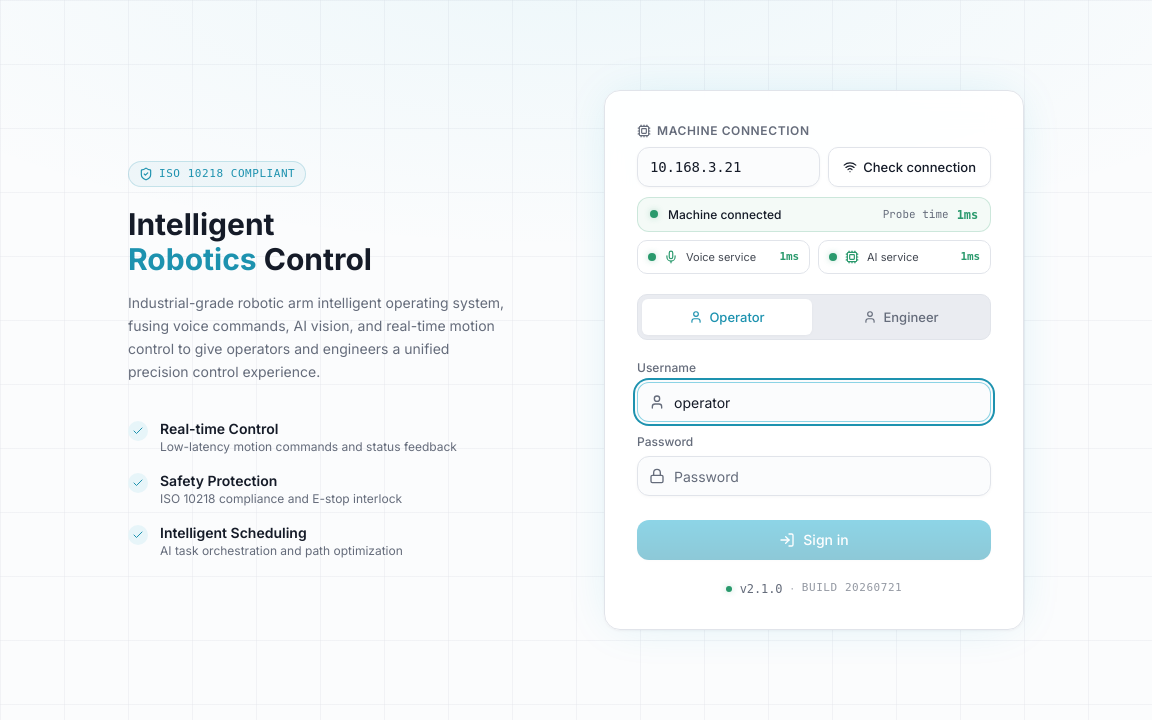
App layout › engineer login reaches the Settings surface from the sidebar
This screenshot has width=1152, height=720.
Replace the text in the field with placeholder "Username" with "engineer" at (814, 402), box [637, 382, 991, 422]
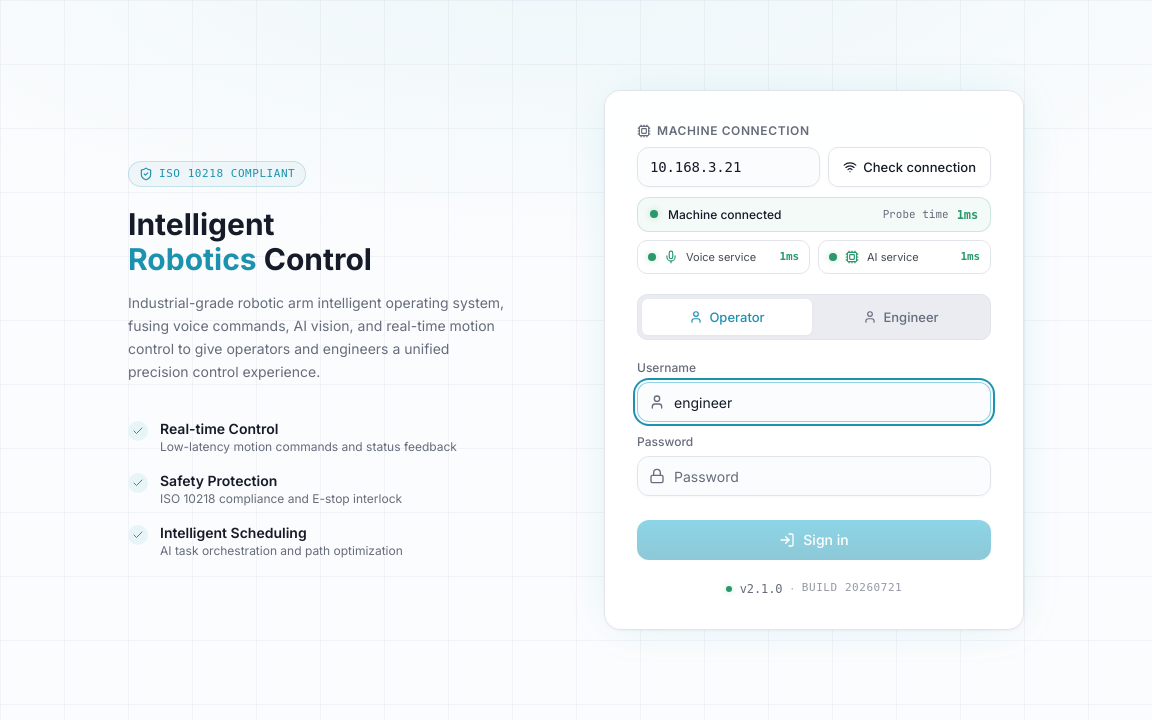
Type "pass" into the password field with placeholder "Password" at (814, 476), box [637, 456, 991, 496]
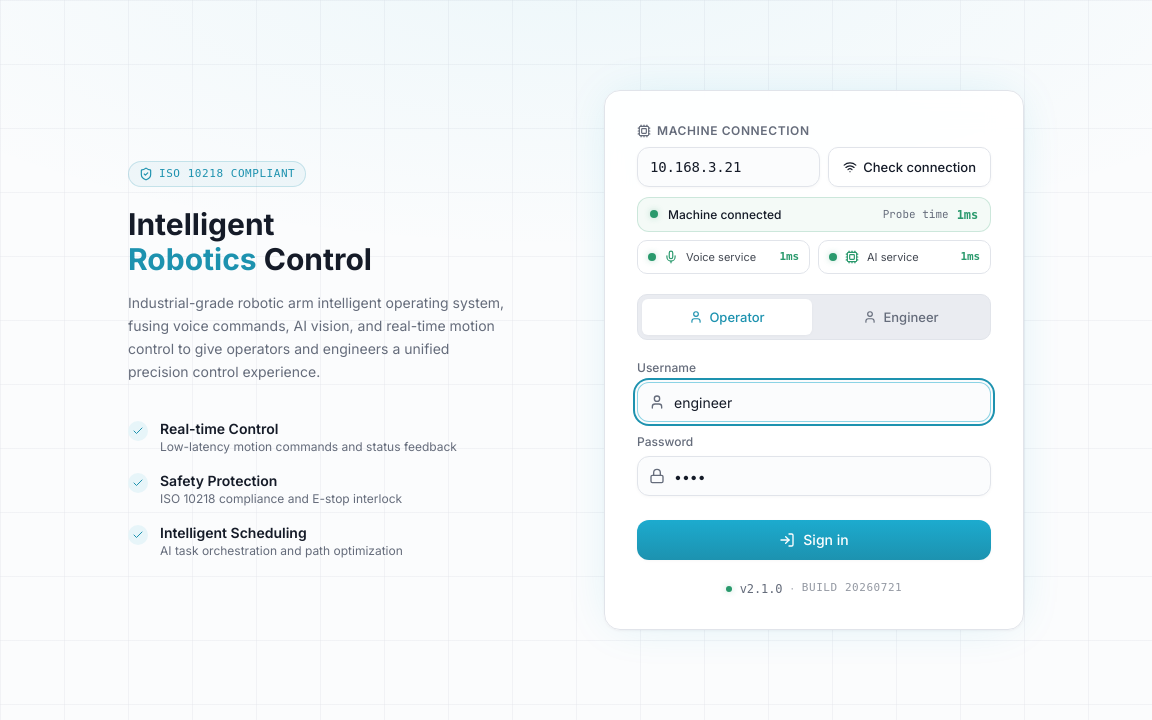
Click the submit button at (814, 540), box [637, 520, 991, 560]
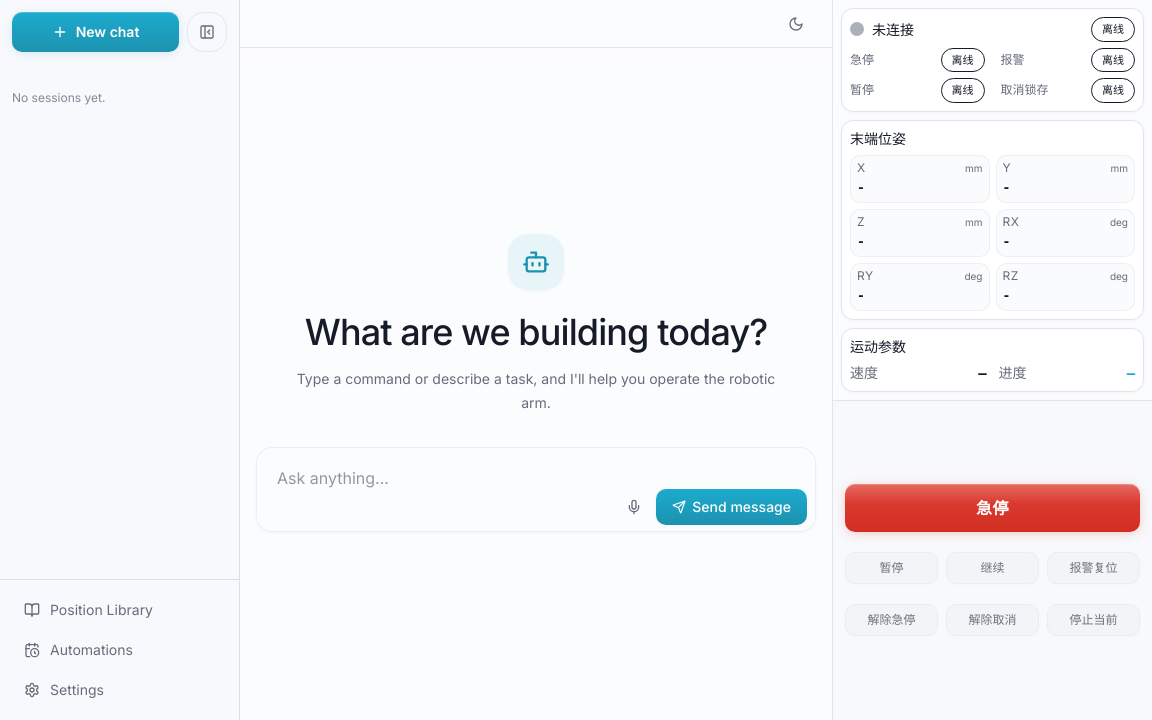
Click the button "Settings" at (120, 690), box [12, 672, 227, 708]
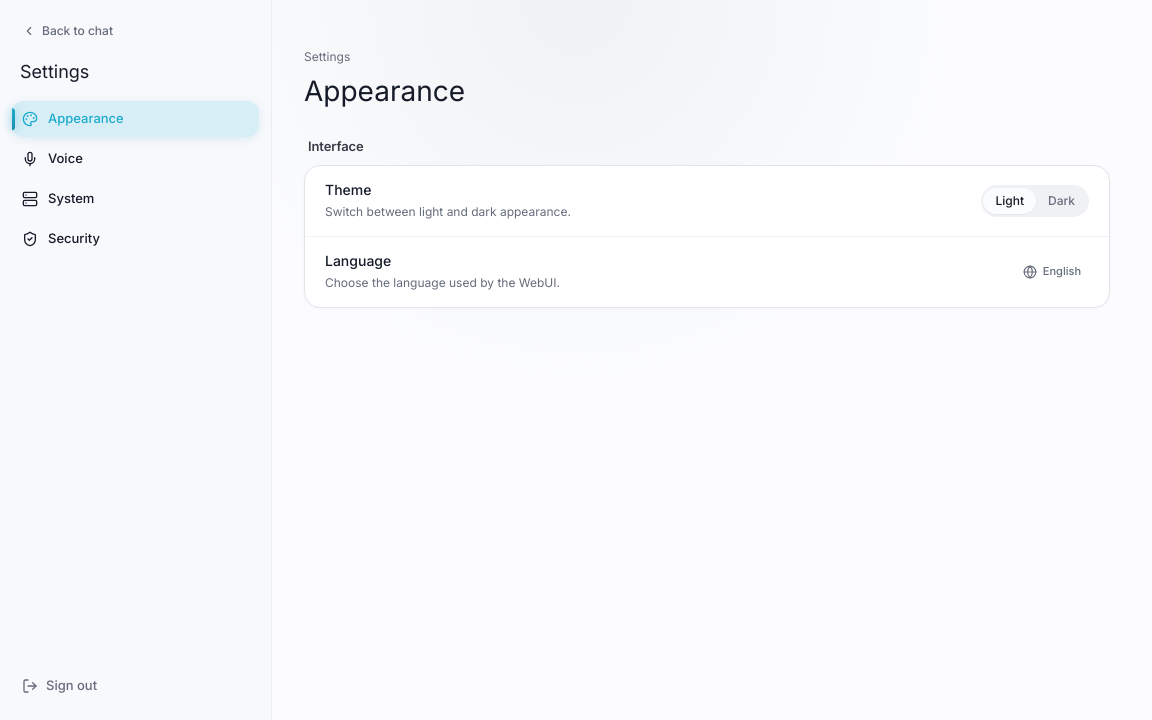
Now the heading "Appearance" is shown, box [304, 74, 465, 108]
Now the navigation bar named "Settings sections" is shown, box [12, 101, 259, 257]
